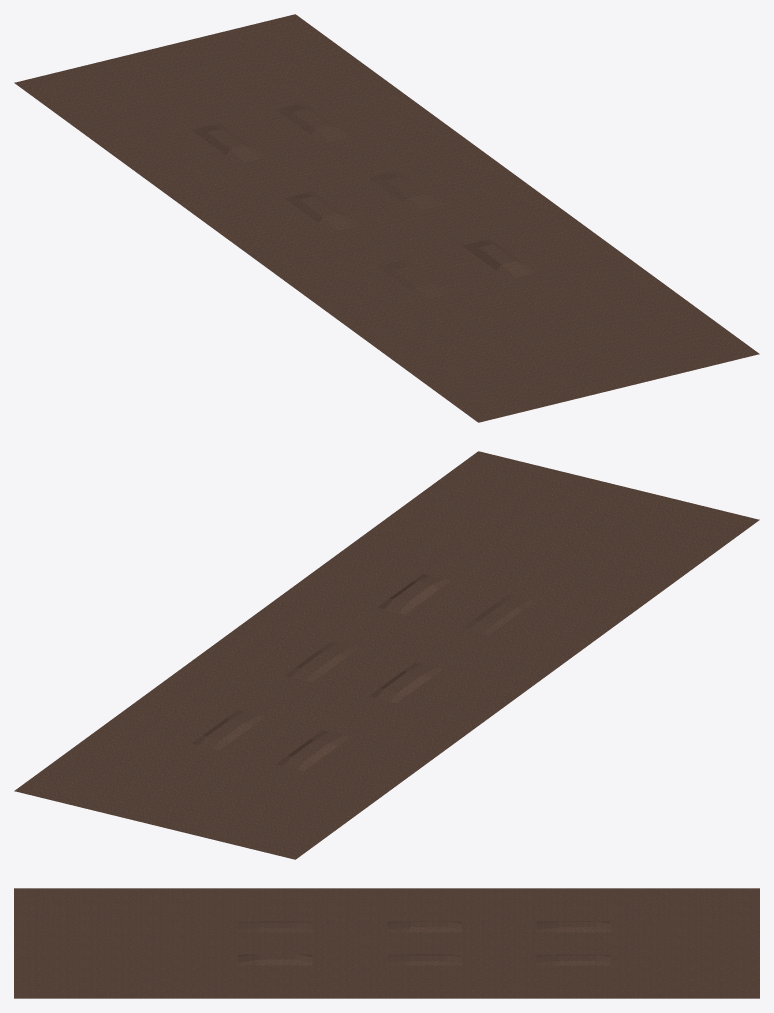
Rendered from piso_panteon.obj.
3 renders of one model, top to bottom at view 1: azimuth 30°, elevation 25°; view 2: azimuth 150°, elevation 25°; view 3: azimuth 270°, elevation 25°, orthographic. The views are drawn at different scales.
Parts seen in each view (by area): view 1: Plano_001; view 2: Plano_001; view 3: Plano_001.
Boxes of the visible parts, x1=… form: Plano_001: x1=14, y1=14, x2=759, y2=422; Plano_001: x1=14, y1=451, x2=759, y2=859; Plano_001: x1=14, y1=888, x2=759, y2=998.
Size of the model in its own units: 35 by 0.4453 by 100.
Materials: 1 (1 with a texture image).
